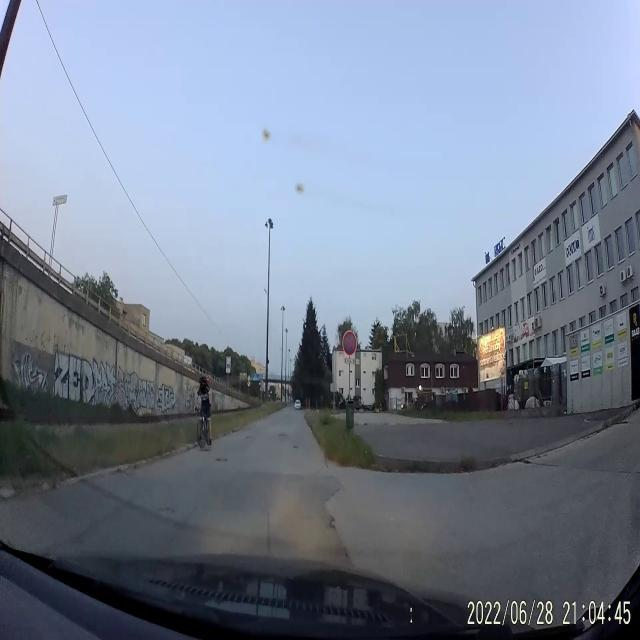Pothole: (158, 504, 174, 518), (213, 456, 230, 464), (278, 432, 288, 438), (246, 434, 252, 440), (292, 445, 298, 449)
